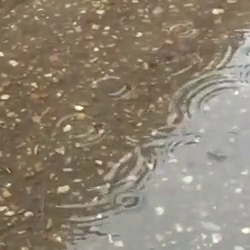drop: (169, 64, 250, 126), (58, 113, 102, 145), (168, 133, 204, 162), (91, 75, 130, 99), (115, 189, 141, 210), (168, 21, 195, 40), (200, 149, 225, 161)
